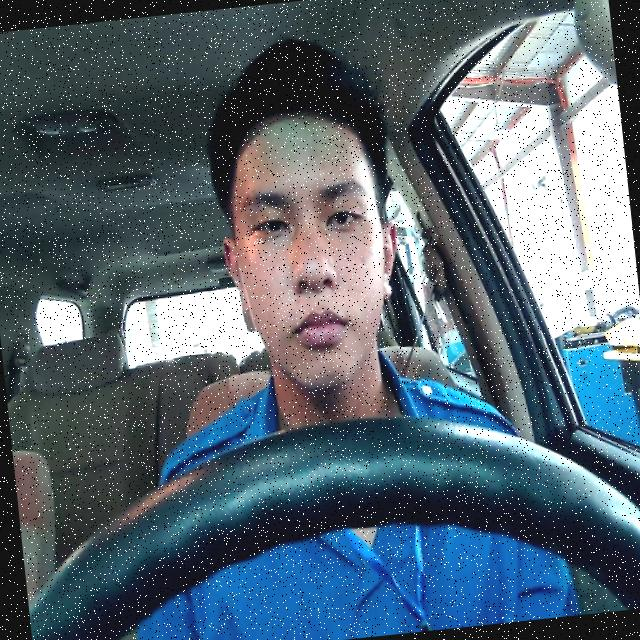focused: (210, 102, 412, 400)
